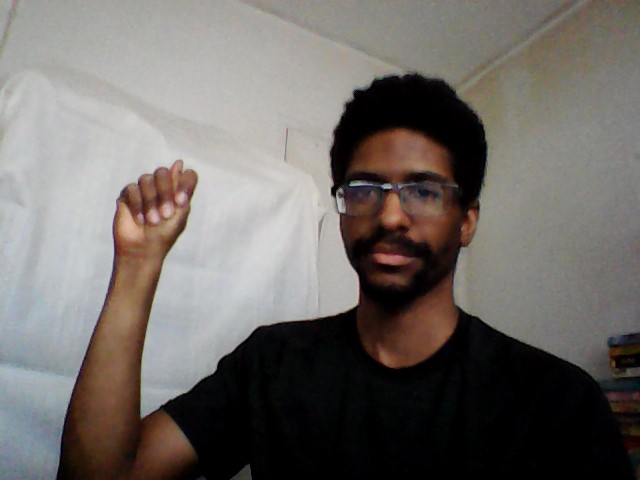t: (104, 157, 204, 256)
